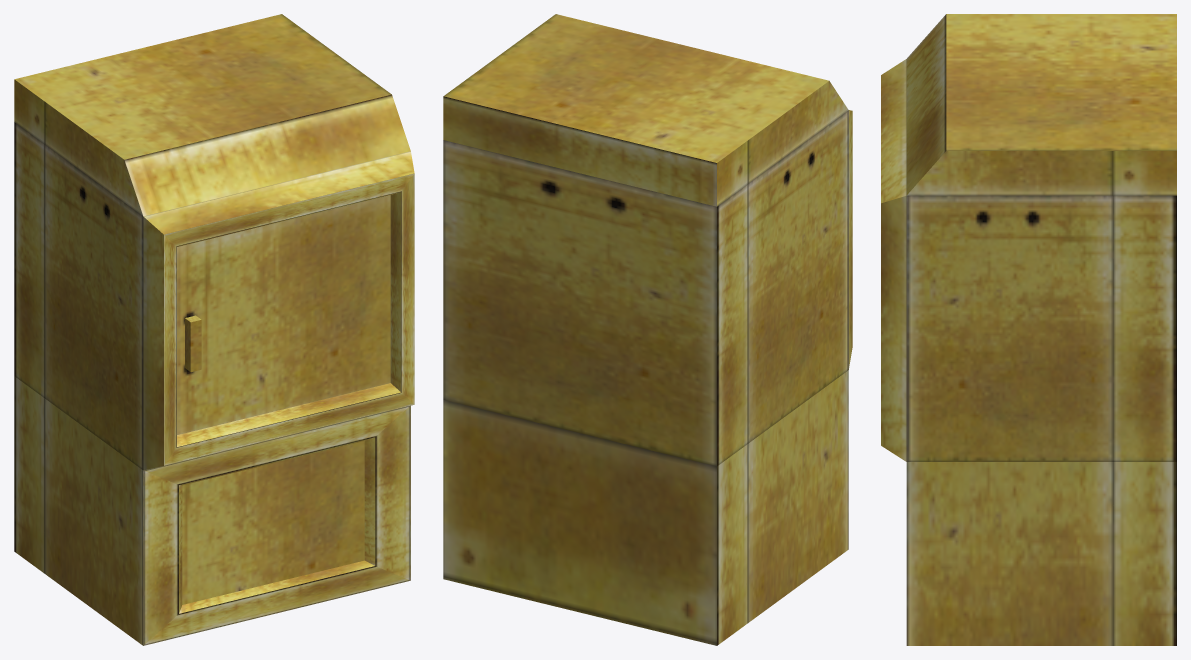
The model's file is Model_NewsPaper_Box_03.fbx.
3 renders of one model, left to right at view 1: azimuth 30°, elevation 25°; view 2: azimuth 150°, elevation 25°; view 3: azimuth 270°, elevation 25°, orthographic. The views are drawn at different scales.
Visible parts, largest first — view 1: Box_03; view 2: Box_03; view 3: Box_03.
Boxes of the visible parts, box(x1,y1,x2,y2) form: Box_03: box(14, 14, 414, 645); Box_03: box(443, 14, 852, 645); Box_03: box(881, 14, 1176, 645).
Bounding box in the file's own units: 120 × 202 × 109.
